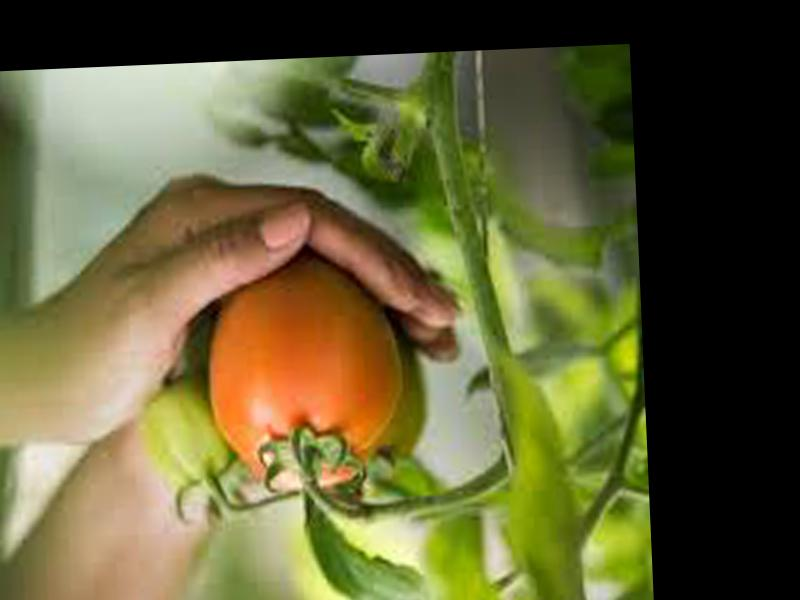Tomato: (205, 263, 403, 491)
